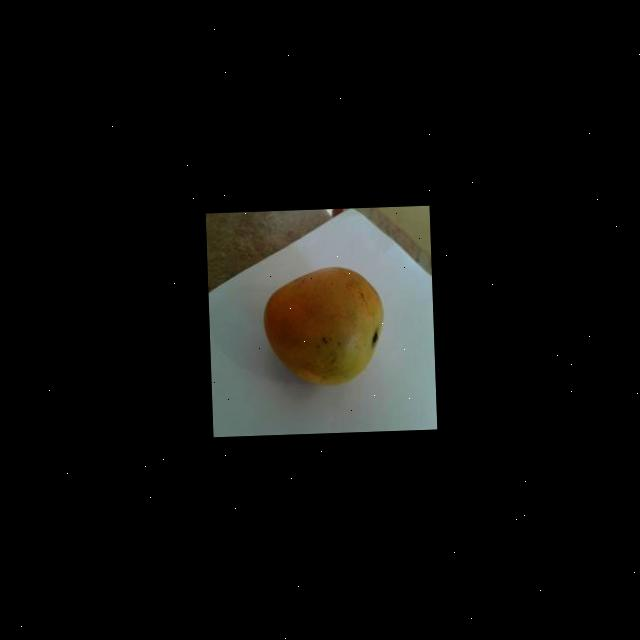Mango: (260, 263, 384, 386)
